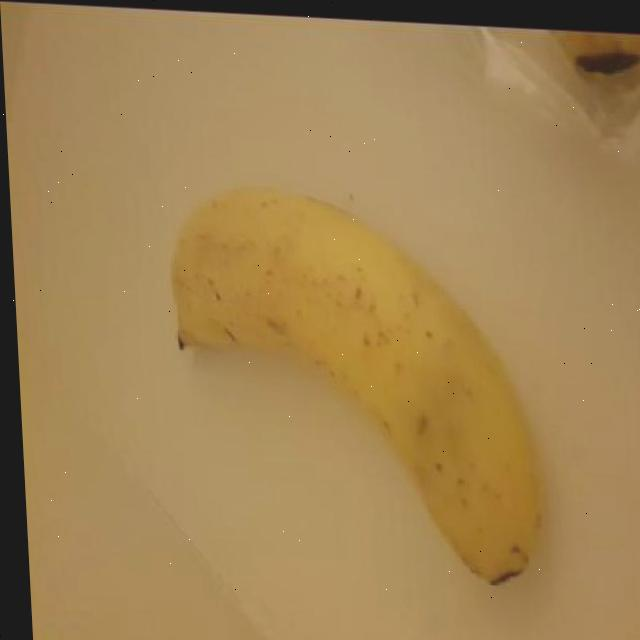banana: (151, 172, 553, 594)
